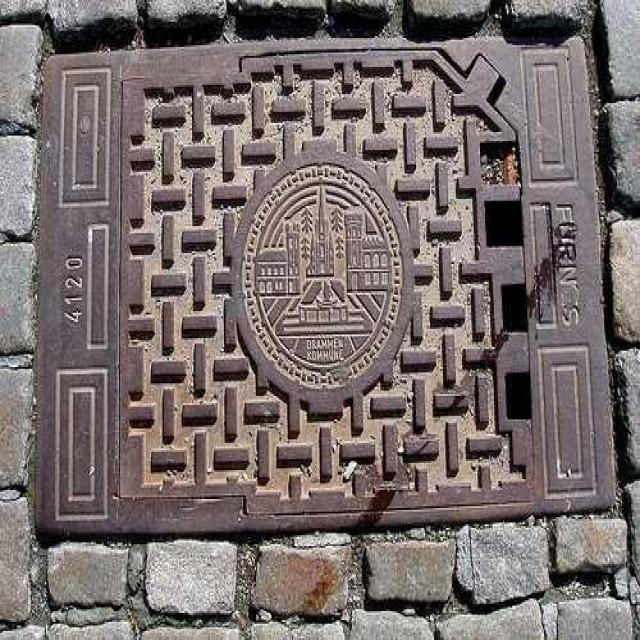manhole: (29, 5, 623, 548)
